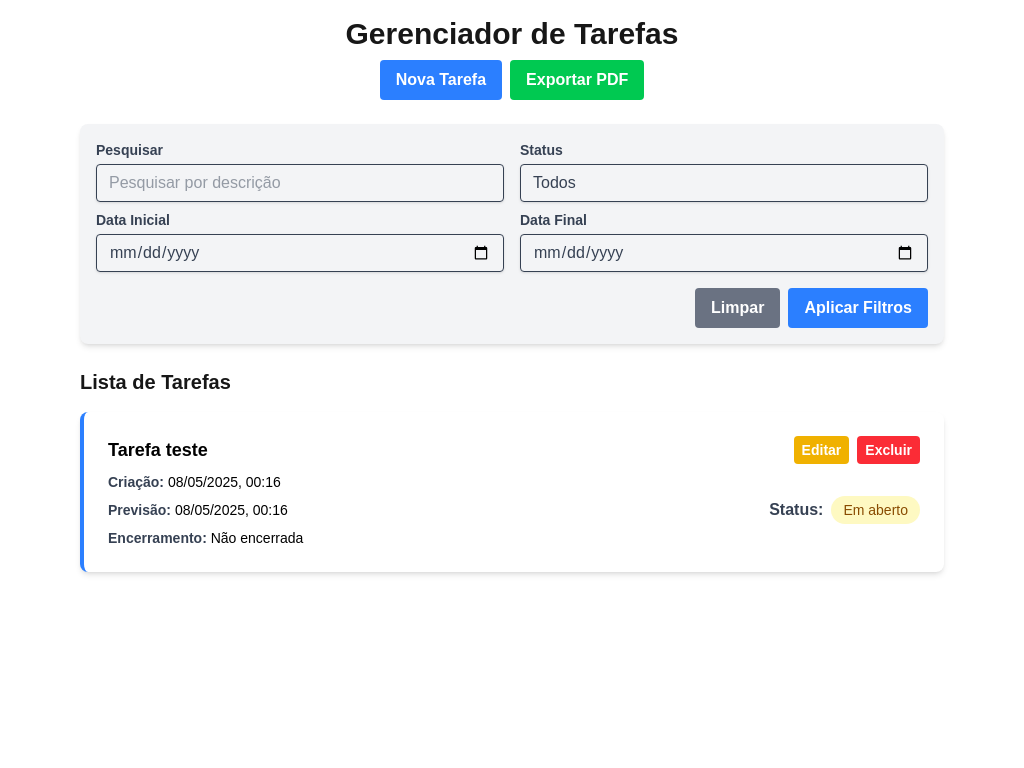
Scenario: Tarefas › should show error message when creating task with empty descricao field
The width and height of the screenshot is (1024, 768).
Click the button "Nova Tarefa" at (441, 80), box [380, 60, 502, 100]
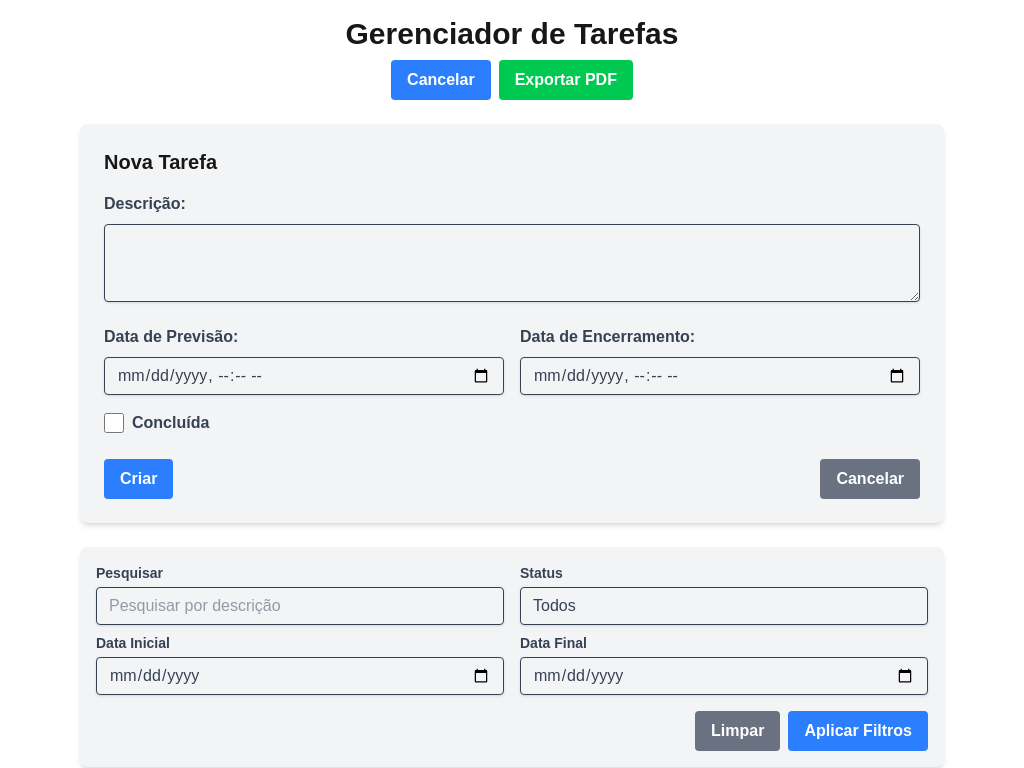
Click the button "Criar" at (139, 479), box [104, 459, 173, 499]
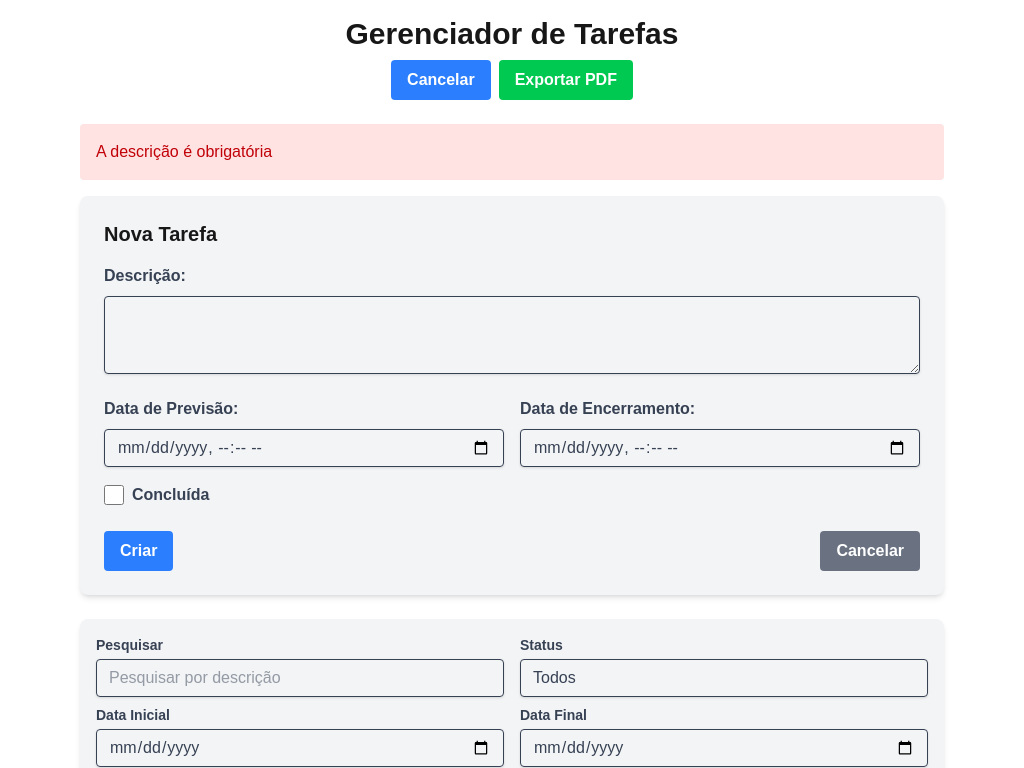
Expected: the text "A descrição é obrigatória" is shown, [80, 124, 944, 180]
